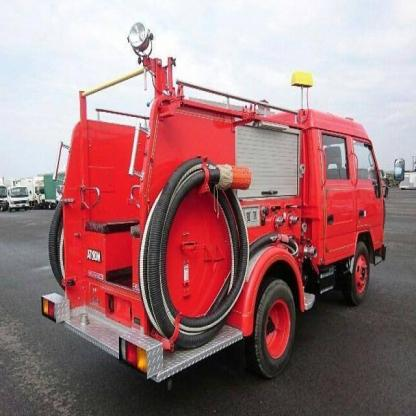truck: (42, 17, 408, 385)
